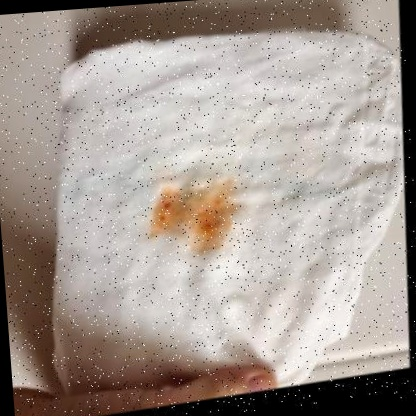kimchi: (146, 172, 241, 262)
